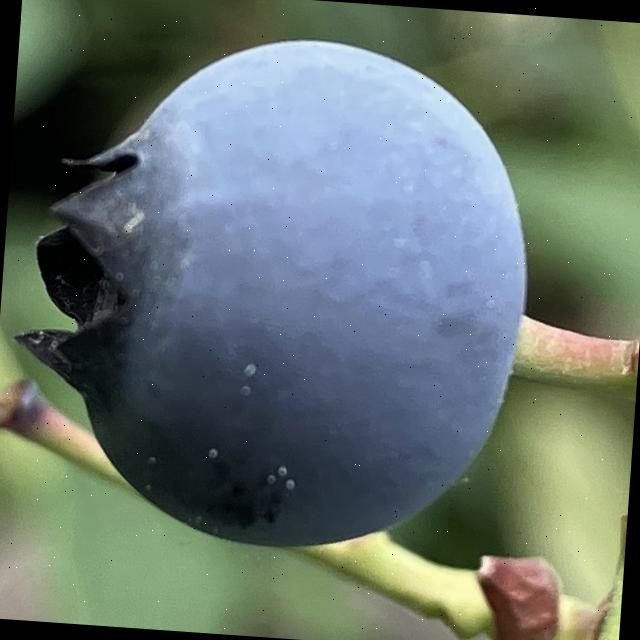Blueberries: (2, 12, 550, 566)
